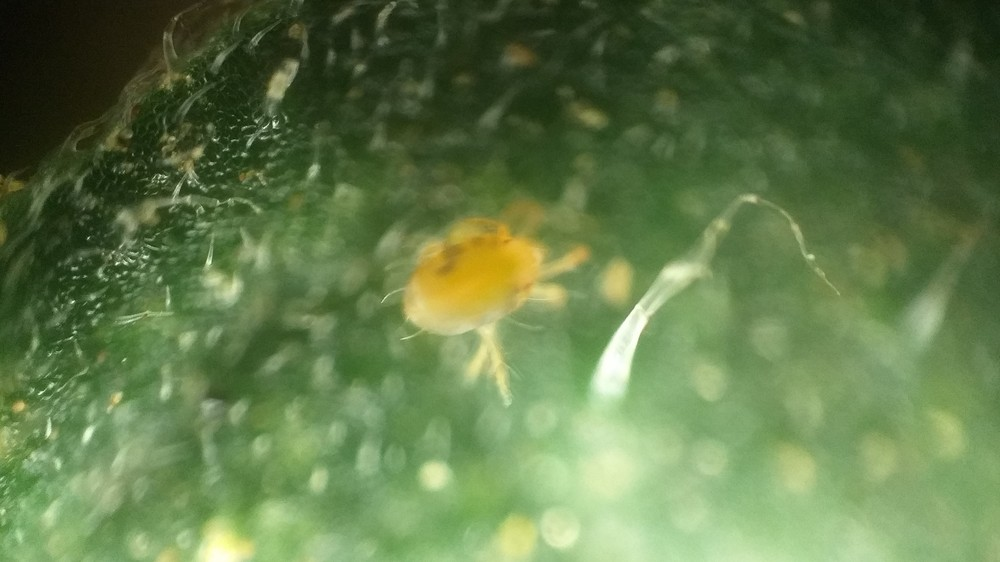Aracnido Rojo: (328, 154, 607, 406)
